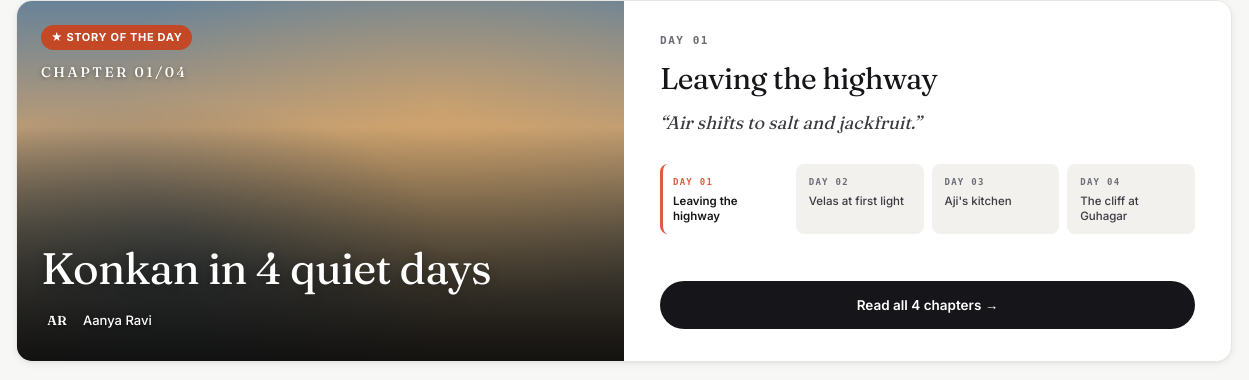
Test: ChapterHero › eventually shows the new chapter heading after the AnimatePresence swap
The image size is (1249, 380).
Click the tab "DAY 03 Aji's kitchen" at [995, 199], box [932,164,1059,234]
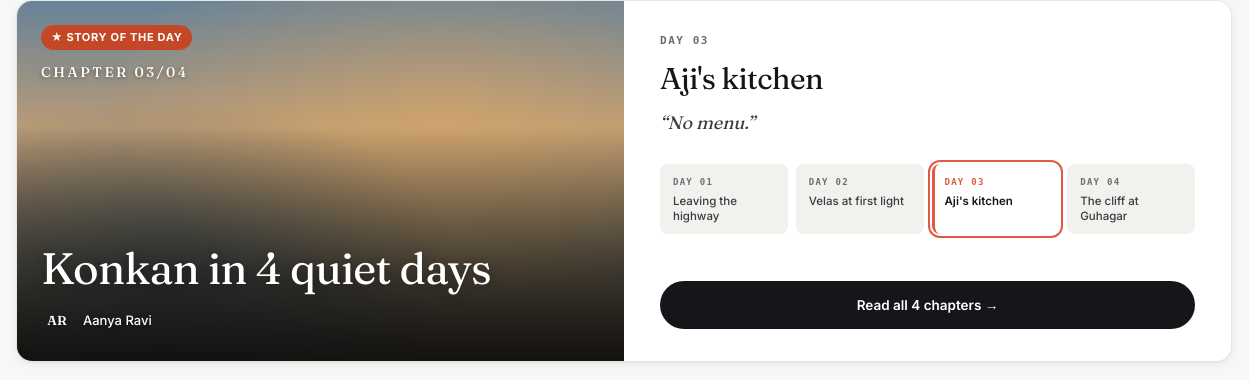
Expected: the heading "Aji's kitchen" is shown, [660,60,823,96]
